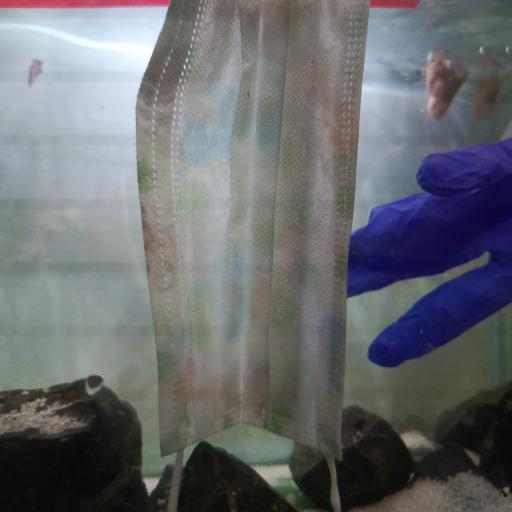glove: (351, 142, 512, 368)
mask: (136, 0, 368, 486)
plastic_straw: (0, 0, 422, 6)
